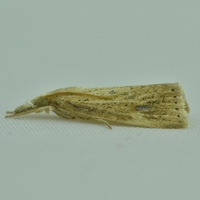insect: (6, 83, 188, 128)
